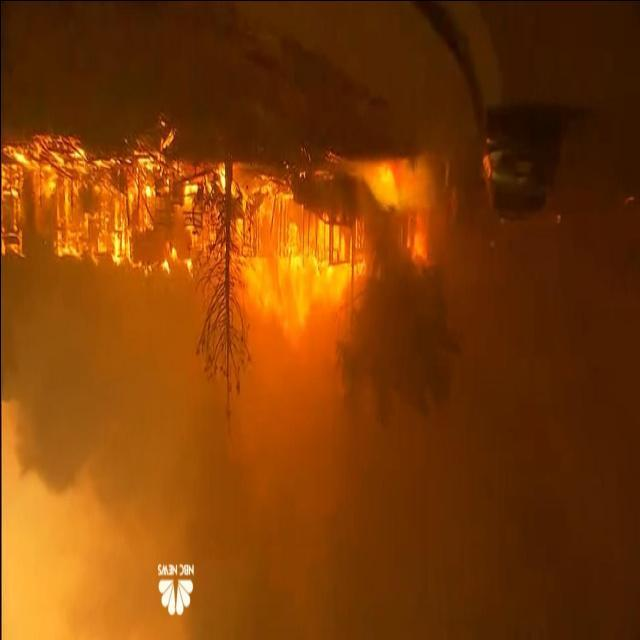Fire: (2, 132, 432, 342)
